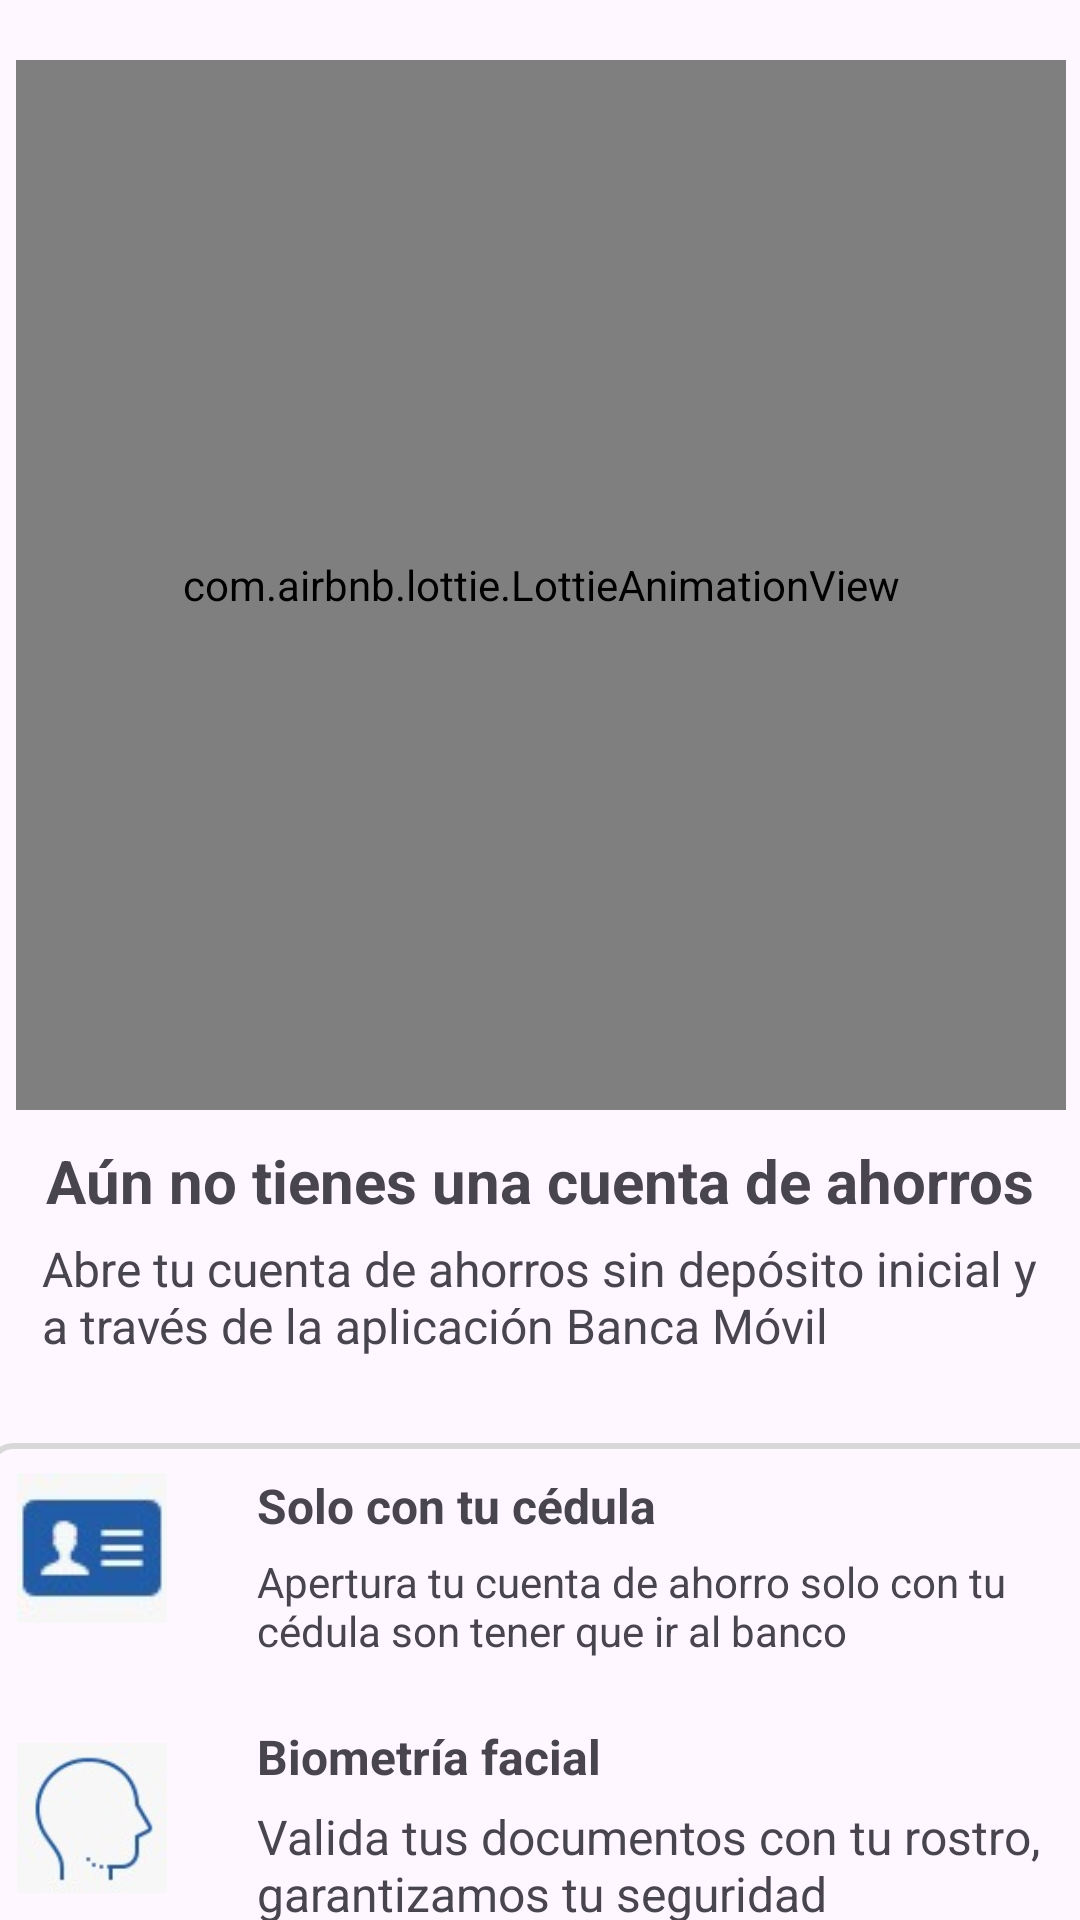

Named icons in this screenshot (1080 × 1920) and their bounding boxes, BBox(x1, y1, x2, y2):
face: BBox(35, 1757, 153, 1881)
iden: BBox(21, 1498, 162, 1599)
